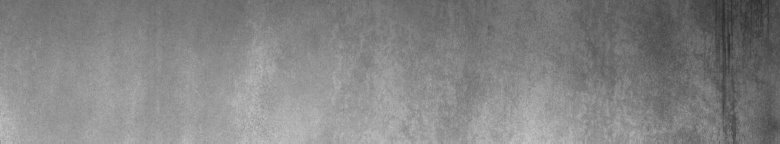ka: (684, 4, 772, 136)
